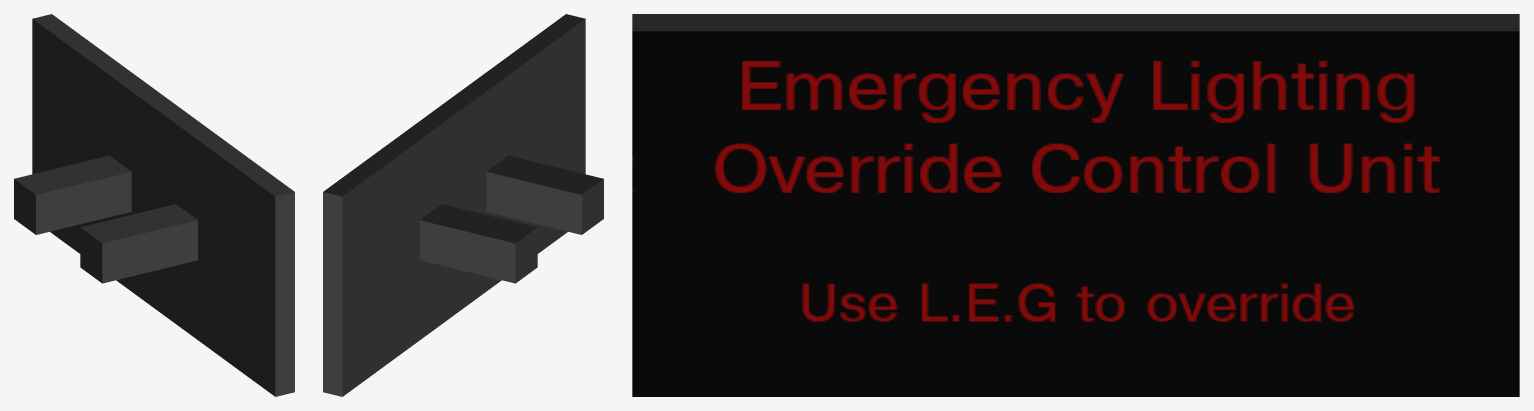
Rendered from obj_wallMonitor_dylan.dae.
The picture shows the model from 3 angles, left to right: view 1: azimuth 30°, elevation 25°; view 2: azimuth 150°, elevation 25°; view 3: azimuth 270°, elevation 25°; orthographic projection. The views are drawn at different scales.
Parts seen in each view (by area): view 1: mesh0%root%1%; view 2: mesh0%root%1%; view 3: mesh0%root%0%, mesh0%root%1%.
Boxes of the visible parts, x1,y1,x2,y2 form: mesh0%root%1%: (14,14,294,396); mesh0%root%1%: (323,14,603,396); mesh0%root%0%: (632,31,1519,396); mesh0%root%1%: (632,14,1519,31).
Size of the model in its own units: 0.602 by 1 by 2.2.
